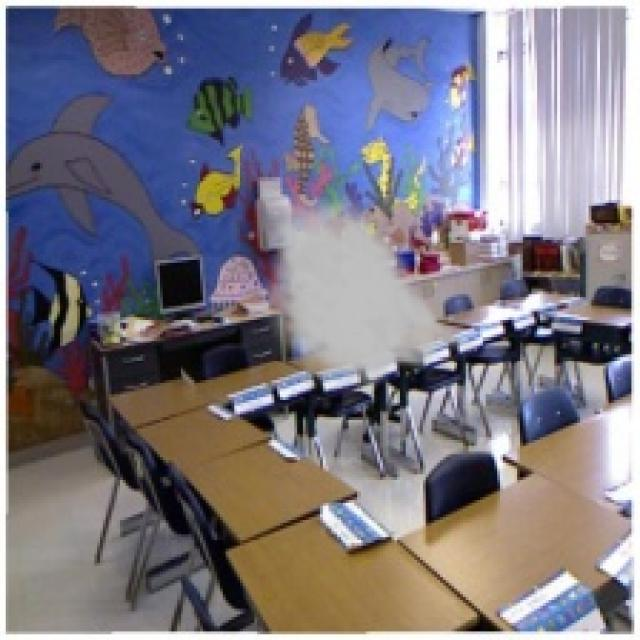smoke: (260, 186, 483, 394)
